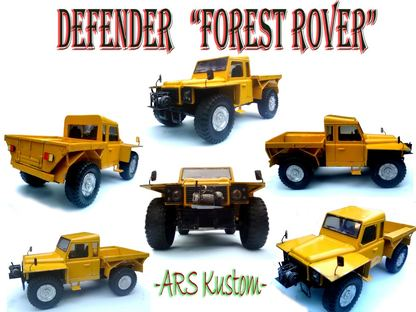truck: (276, 205, 416, 312), (5, 115, 142, 208), (147, 55, 283, 144), (264, 115, 413, 187), (10, 232, 149, 309), (140, 167, 270, 248)
